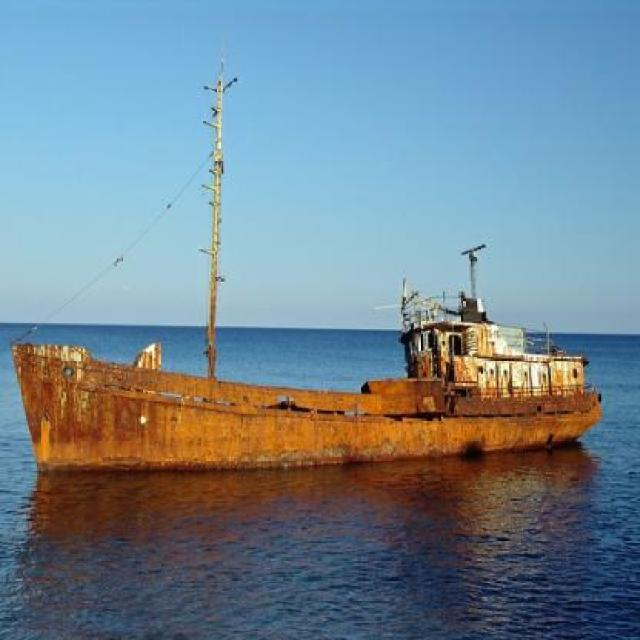corrosion: (14, 174, 612, 472)
